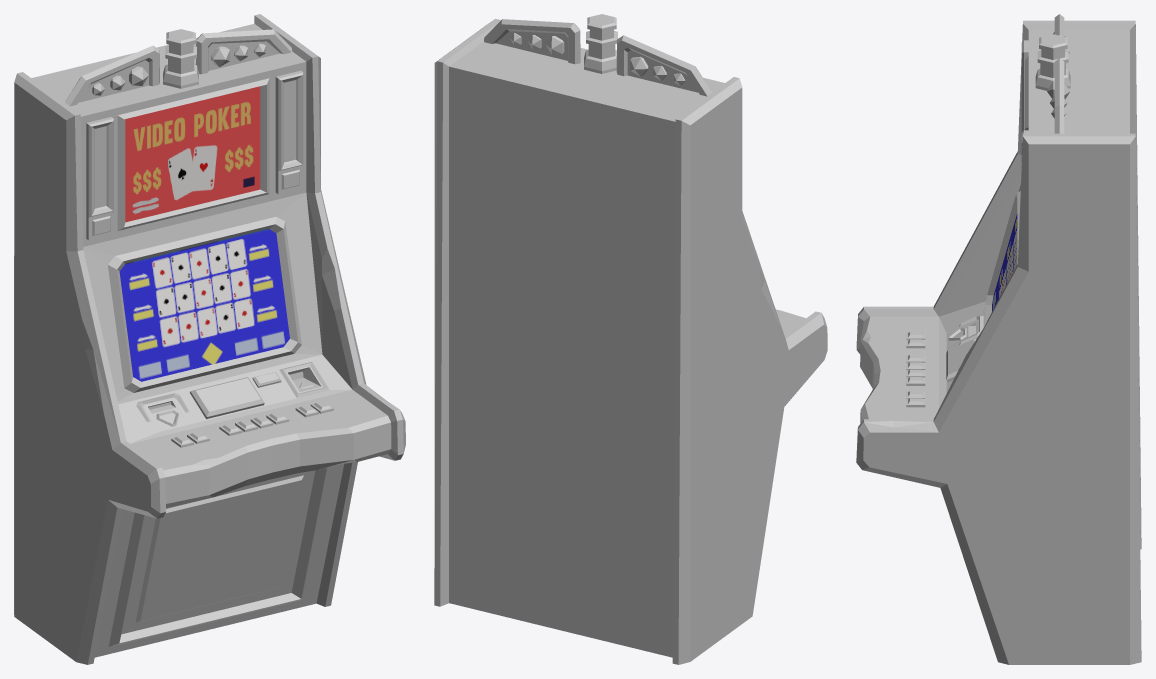
File: SM_Prop_Video_Poker_01.fbx
The picture shows the model from 3 angles, left to right: view 1: azimuth 30°, elevation 25°; view 2: azimuth 150°, elevation 25°; view 3: azimuth 270°, elevation 25°; orthographic projection. The views are drawn at different scales.
Visible parts, largest first — view 1: SM_Prop_Video_Poker_01; view 2: SM_Prop_Video_Poker_01; view 3: SM_Prop_Video_Poker_01.
Part boxes in pixels (x1,y1,x2,y2): SM_Prop_Video_Poker_01: [14, 14, 405, 664]; SM_Prop_Video_Poker_01: [434, 14, 827, 664]; SM_Prop_Video_Poker_01: [856, 14, 1141, 664].
Size of the model in its own units: 106 by 230 by 105.
